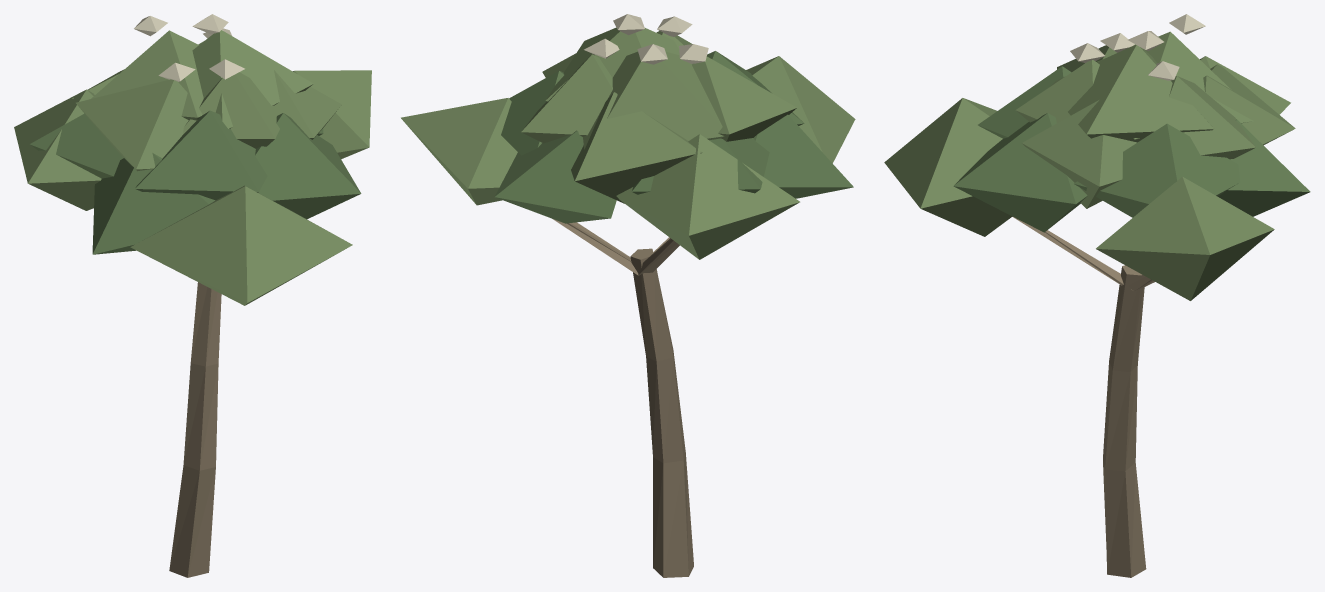
The model's file is scalesia.glb.
3 renders of one model, left to right at view 1: azimuth 30°, elevation 25°; view 2: azimuth 150°, elevation 25°; view 3: azimuth 270°, elevation 25°, orthographic. The views are drawn at different scales.
Visible parts, largest first — view 1: scalesia; view 2: scalesia; view 3: scalesia.
Boxes of the visible parts, left/top/right/bottom form: scalesia: left=14, top=14, right=371, bottom=577; scalesia: left=401, top=14, right=855, bottom=577; scalesia: left=884, top=14, right=1310, bottom=577.
Bounding box in the file's own units: 5.43 × 7.63 × 5.31.
